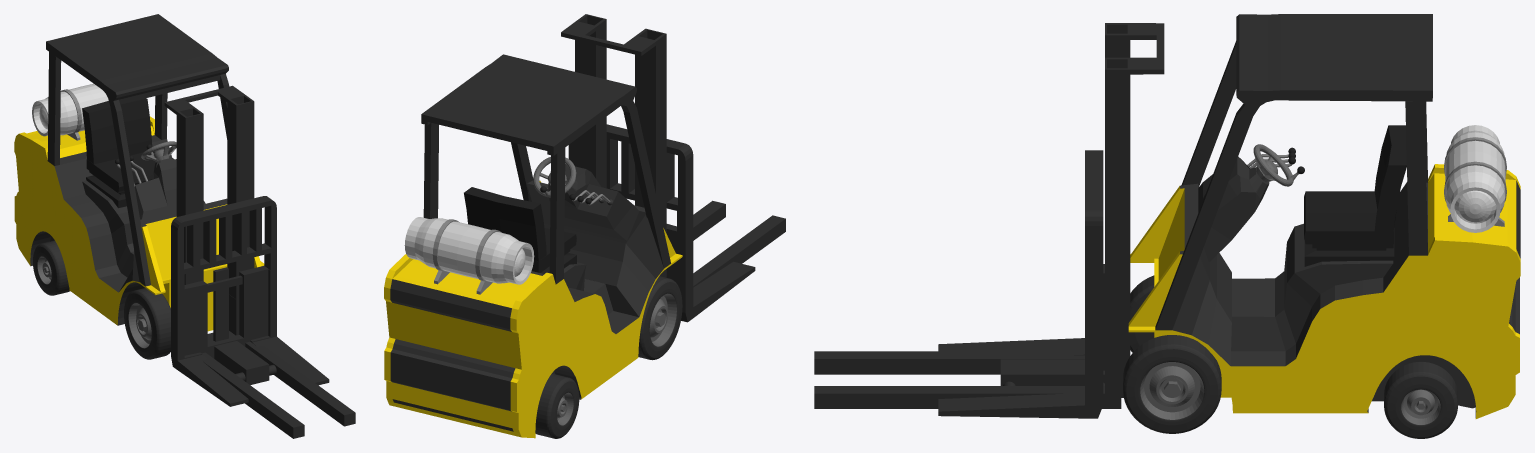
Rendered from Mesh_Forklift_FV.fbx.
3 views of the same model, side by side, from view 1: azimuth 30°, elevation 25°; view 2: azimuth 150°, elevation 25°; view 3: azimuth 270°, elevation 25° (orthographic). The views are drawn at different scales.
Visible parts, largest first — view 1: Cabina_central_modelo, Pala, Estructura_pala, Cube.034, Ruedas_delanteras, Rueda_atras_izquierda, Bolante; view 2: Cabina_central_modelo, Estructura_pala, Pala, Cube.034, Ruedas_delanteras, Rueda_atras_izquierda, Bolante; view 3: Cabina_central_modelo, Cube.034, Estructura_pala, Pala, Ruedas_delanteras.001, Rueda_atras_iderecha, Bolante, Ruedas_delanteras.
Boxes of the visible parts, box(x1,y1,x2,y2) form: Cabina_central_modelo: box(14, 14, 264, 331); Pala: box(171, 196, 329, 406); Estructura_pala: box(164, 85, 254, 339); Cube.034: box(201, 335, 355, 438); Ruedas_delanteras: box(124, 288, 170, 359); Rueda_atras_izquierda: box(33, 240, 69, 295); Bolante: box(141, 141, 176, 162); Cabina_central_modelo: box(384, 54, 682, 438); Estructura_pala: box(561, 14, 666, 277); Pala: box(568, 124, 755, 322); Cube.034: box(693, 200, 785, 287); Ruedas_delanteras: box(638, 276, 682, 360); Rueda_atras_izquierda: box(535, 373, 579, 438); Bolante: box(533, 157, 576, 197); Cabina_central_modelo: box(1128, 14, 1520, 418); Cube.034: box(814, 351, 1121, 408); Estructura_pala: box(1105, 23, 1164, 397); Pala: box(938, 150, 1104, 418); Ruedas_delanteras.001: box(1123, 335, 1221, 433); Rueda_atras_iderecha: box(1384, 361, 1457, 438); Bolante: box(1253, 144, 1304, 186); Ruedas_delanteras: box(1130, 275, 1154, 352).
Bounding box in the file's own units: 1.24 × 2.4 × 4.37.
